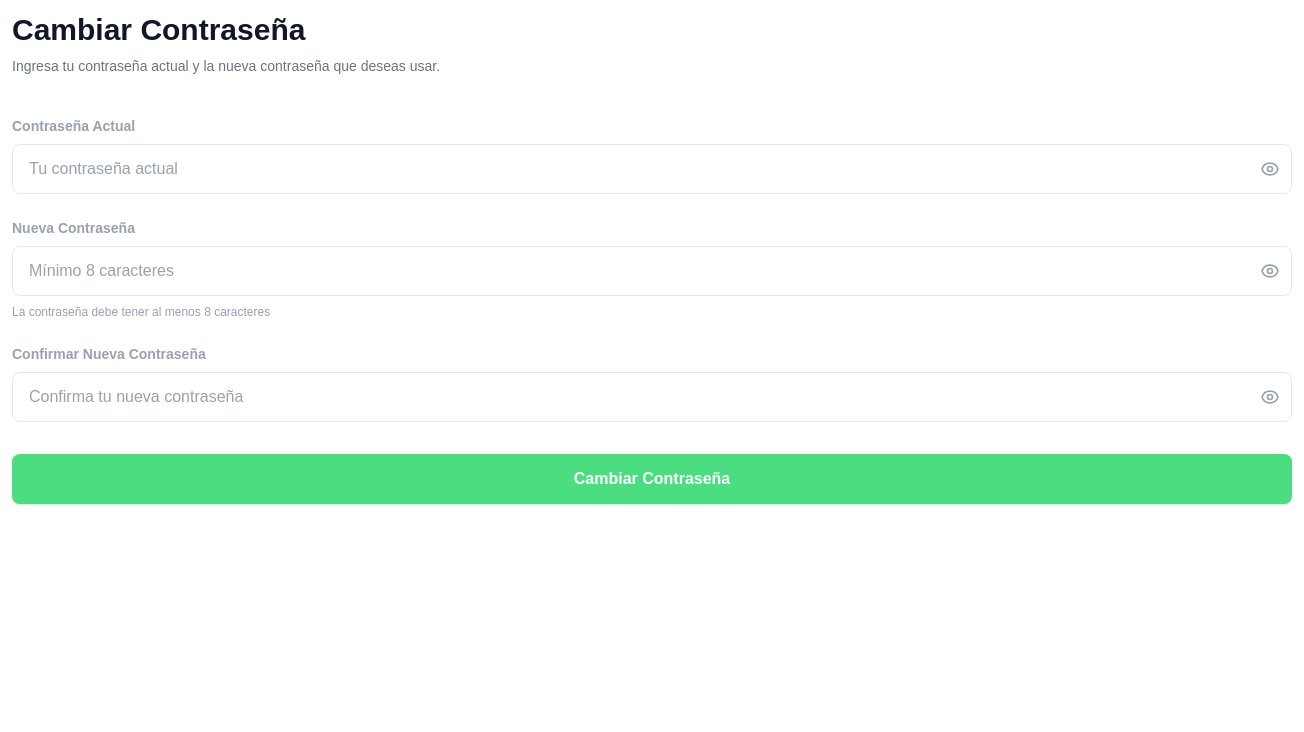
Test case: ChangePasswordForm › validación del formulario › debería mostrar error cuando las contraseñas no coinciden
Type "oldPass123" into the password field with placeholder "Tu contraseña actual" at (652, 169), box [12, 144, 1292, 194]
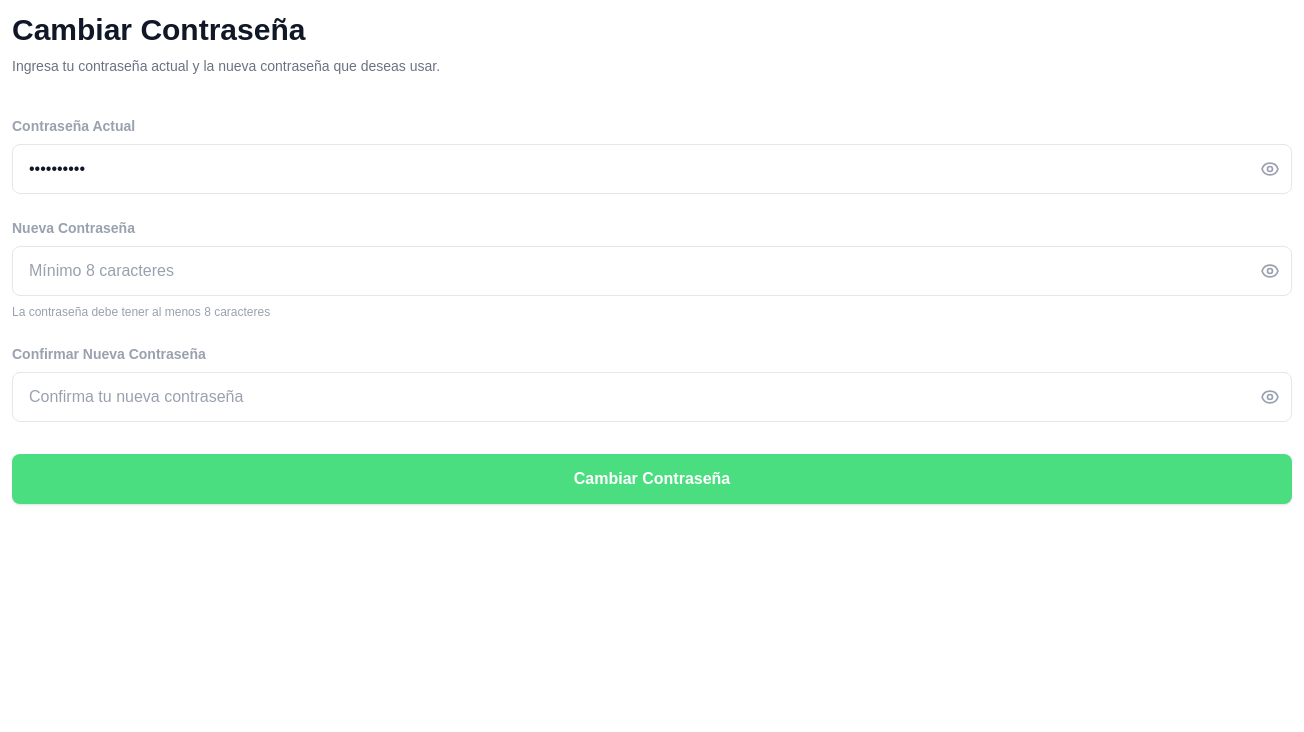
Type "newPassword1" into the password field with placeholder "Mínimo 8 caracteres" at (652, 271), box [12, 246, 1292, 296]
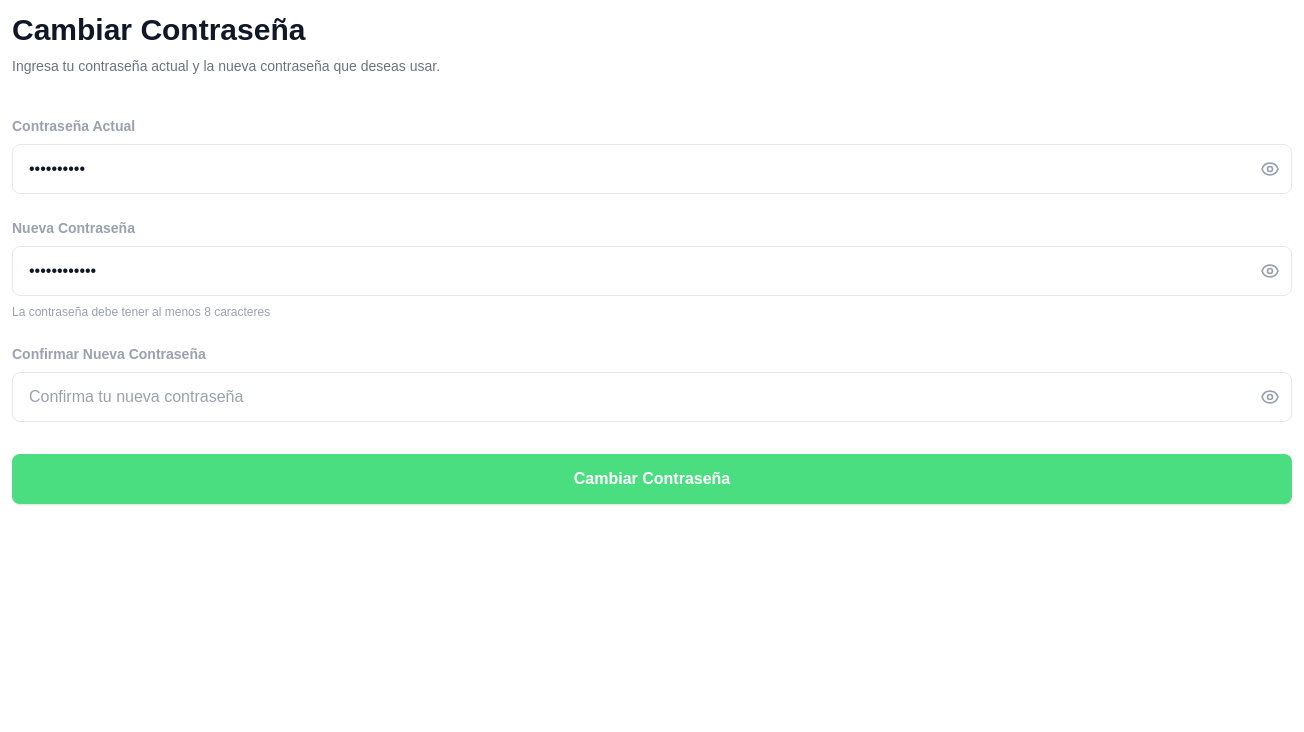
Type "newPassword2" into the password field with placeholder "Confirma tu nueva contraseña" at (652, 397), box [12, 372, 1292, 422]
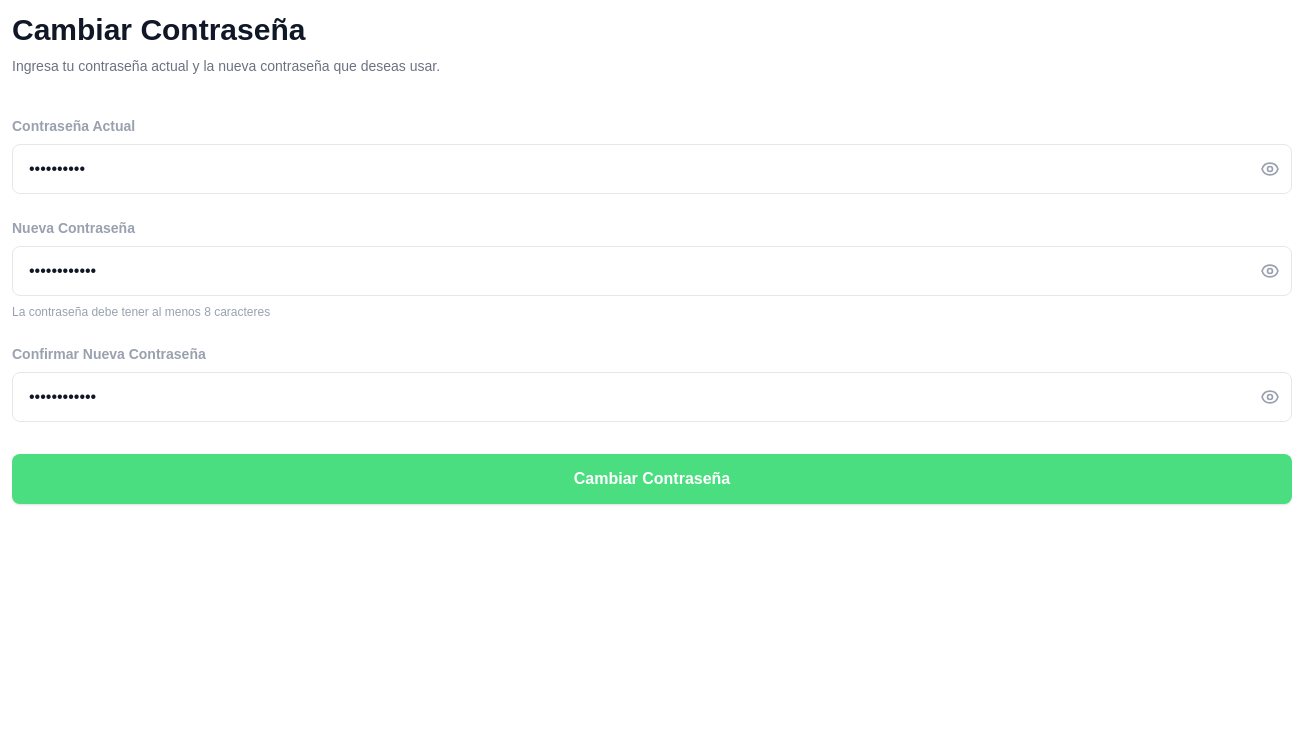
Submit the form named "cambiar contraseña", box [12, 116, 1292, 504]
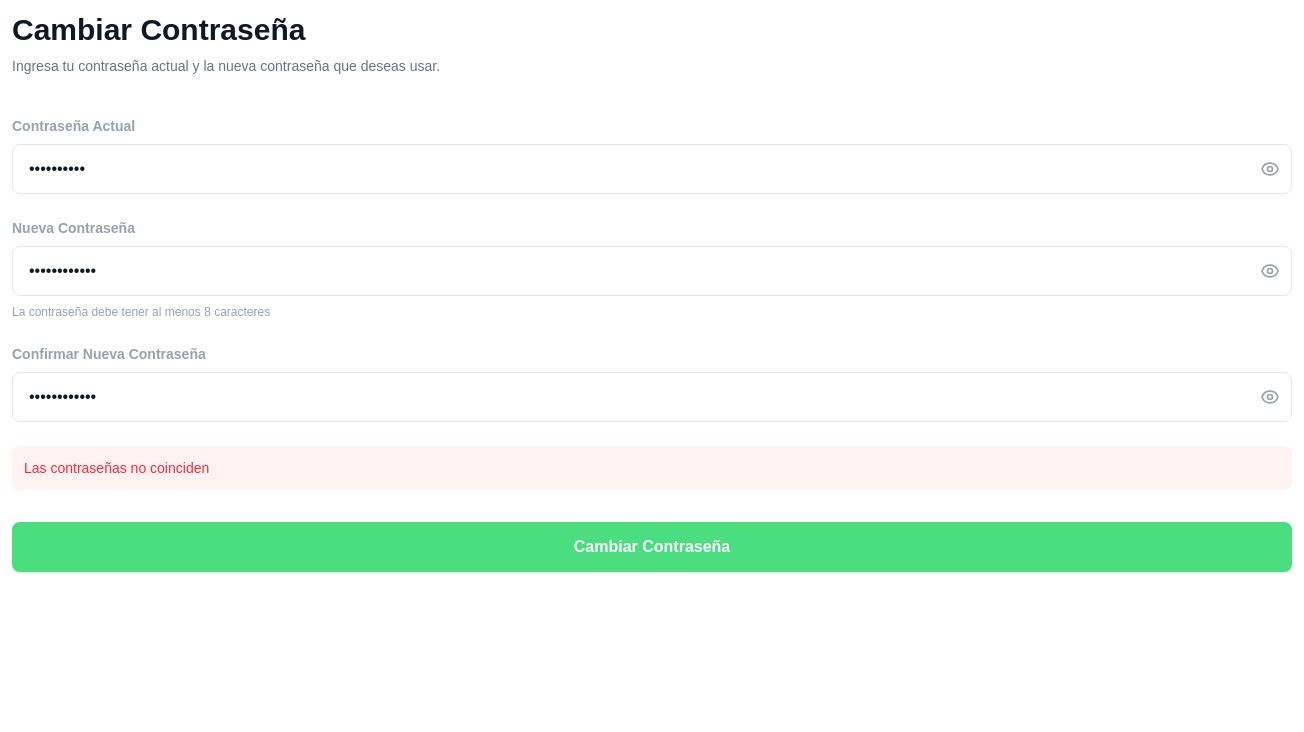
Expected: the text "Las contraseñas no coinciden" is shown, [12, 446, 1292, 490]
